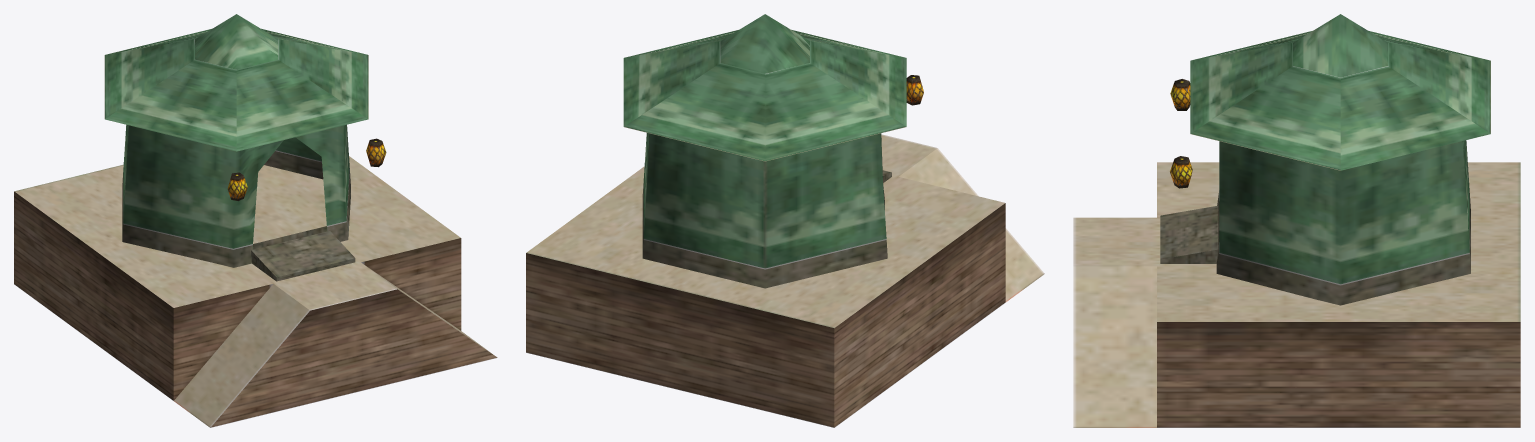
File: ply_nboo_merchant_tent_s01_r0_mesh_l3.fbx
The picture shows the model from 3 angles, left to right: view 1: azimuth 30°, elevation 25°; view 2: azimuth 150°, elevation 25°; view 3: azimuth 270°, elevation 25°; orthographic projection. The views are drawn at different scales.
Visible parts, largest first — view 1: mesh_node; view 2: mesh_node; view 3: mesh_node.
Boxes of the visible parts, x1,y1,x2,y2 form: mesh_node: [14, 14, 497, 427]; mesh_node: [526, 14, 1044, 427]; mesh_node: [1073, 14, 1520, 427].
Bounding box in the file's own units: 9.05 × 8.81 × 10.7.
